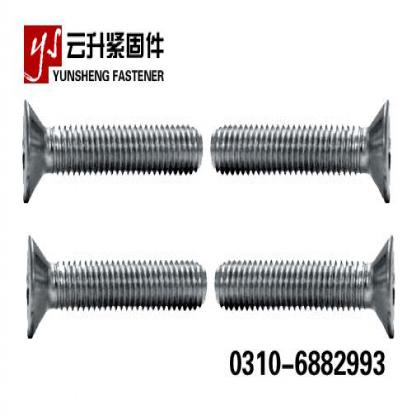FOD: (21, 232, 207, 346), (211, 93, 392, 209), (212, 232, 398, 344), (20, 96, 204, 203)
